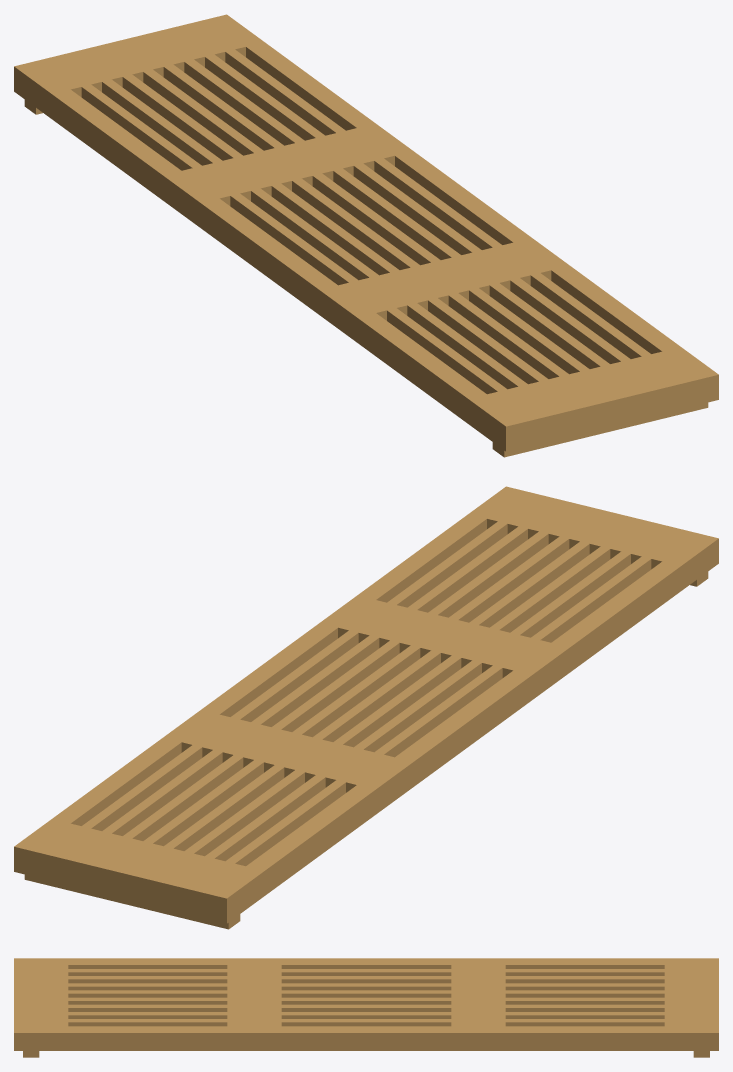
The picture shows the model from 3 angles, top to bottom: view 1: azimuth 30°, elevation 25°; view 2: azimuth 150°, elevation 25°; view 3: azimuth 270°, elevation 25°; orthographic projection. The views are drawn at different scales.
Parts seen in each view (by area): view 1: 2021198; view 2: 2021198; view 3: 2021198.
Boxes of the visible parts, x1,y1,x2,y2 form: 2021198: (14,14,718,457); 2021198: (14,486,718,929); 2021198: (14,958,718,1057).
Bounding box in the file's own units: 487 × 80 × 1950.
